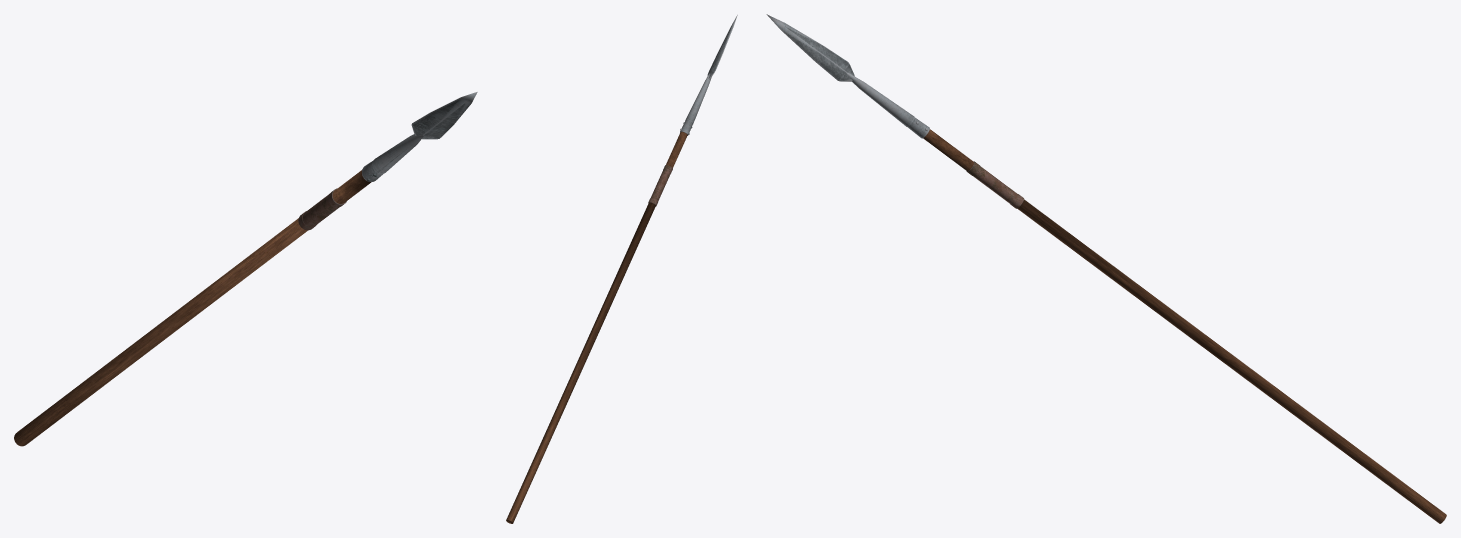
File: w_long_spear.glb
3 views of the same model, side by side, from view 1: azimuth 30°, elevation 25°; view 2: azimuth 150°, elevation 25°; view 3: azimuth 270°, elevation 25° (orthographic). The views are drawn at different scales.
Parts seen in each view (by area): view 1: defaultMaterial.001, defaultMaterial, defaultMaterial.002; view 2: defaultMaterial.001, defaultMaterial, defaultMaterial.002; view 3: defaultMaterial.001, defaultMaterial, defaultMaterial.002.
Part boxes in pixels (<box>): defaultMaterial.001: <box>14,170,370,446</box>; defaultMaterial: <box>362,92,477,182</box>; defaultMaterial.002: <box>298,188,346,230</box>; defaultMaterial.001: <box>506,132,687,523</box>; defaultMaterial: <box>680,15,737,135</box>; defaultMaterial.002: <box>648,165,672,206</box>; defaultMaterial.001: <box>923,129,1446,523</box>; defaultMaterial: <box>766,14,929,138</box>; defaultMaterial.002: <box>966,161,1023,208</box>.
Size of the model in its own units: 0.0424 by 1.28 by 1.55.
Materials: 3 (3 with a texture image).
